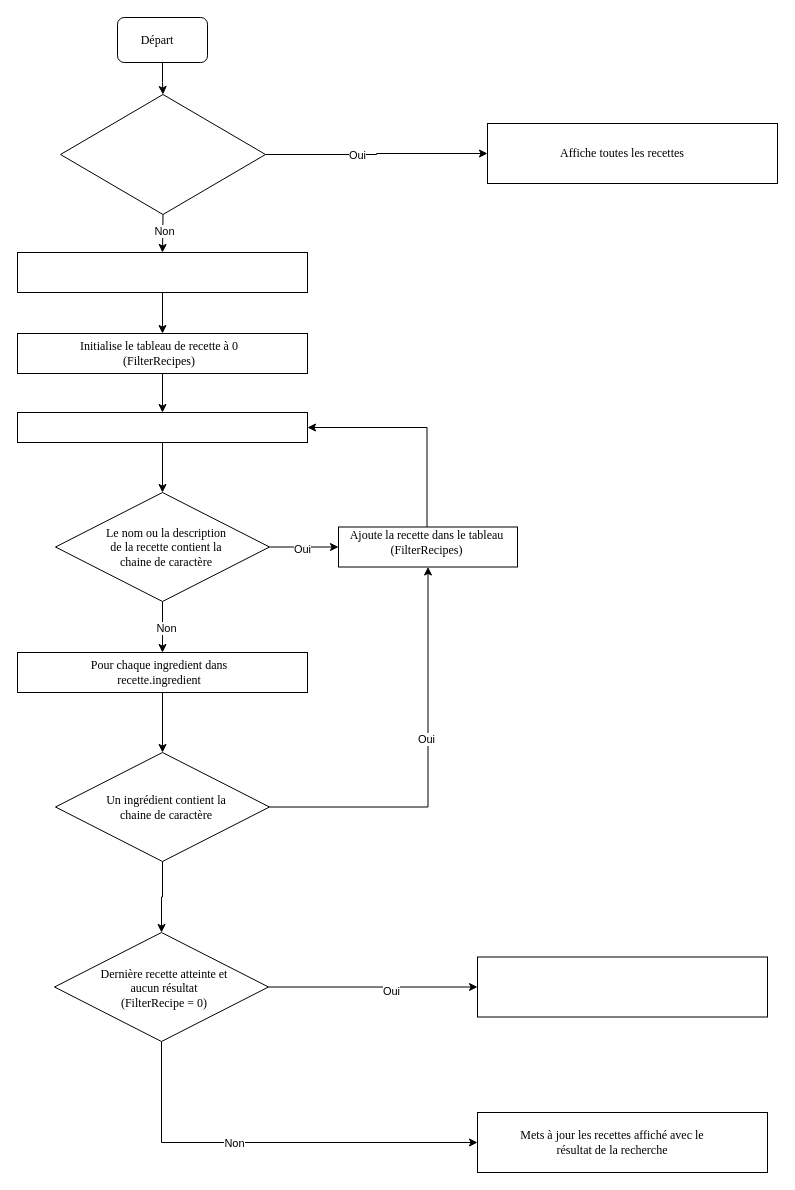
Some shapes in this 795 by 1190 pixel diagram are drawn without their labels. Each missing label, with the centre of its shape:
Affiche le message "Aucune Recette ...": the point at 622,986
La barre de recherche principal contient moins de 3 caractères: the point at 163,154
Normalise la chaine de caractère: the point at 162,272
Pour chaque recette dans AllRecipes: the point at 162,427
